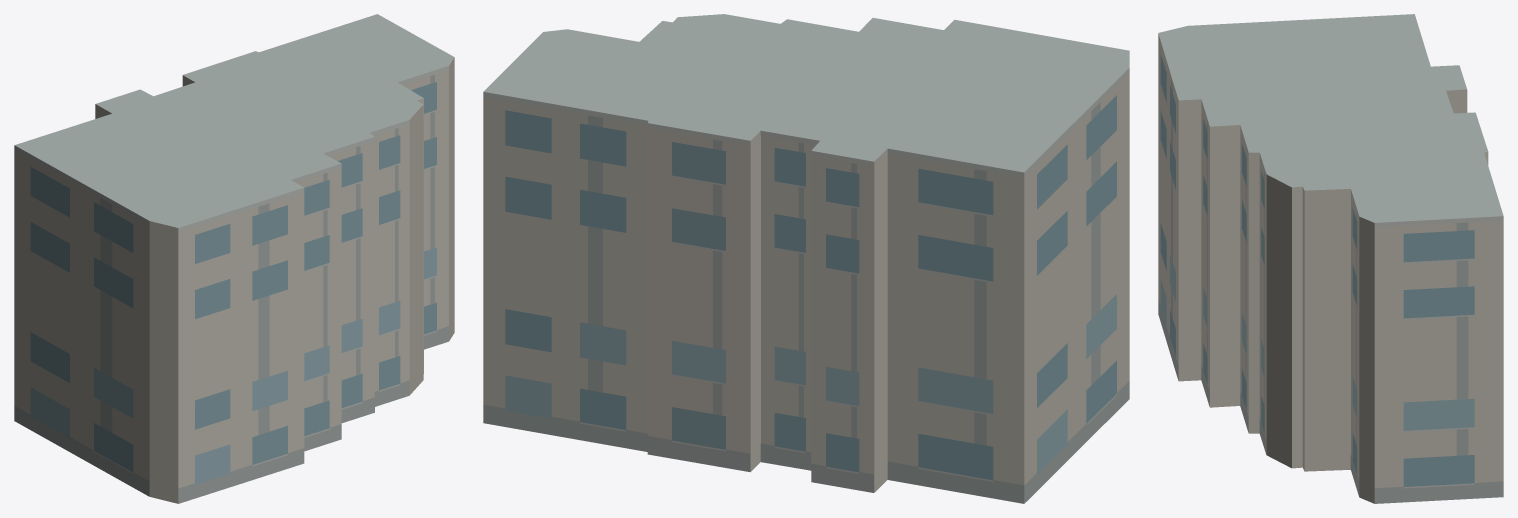
Rendered from survey-upis-32802714.glb.
3 views of the same model, side by side, from view 1: azimuth 30°, elevation 25°; view 2: azimuth 150°, elevation 25°; view 3: azimuth 270°, elevation 25° (orthographic). The views are drawn at different scales.
Parts seen in each view (by area): view 1: survey-upis-32802714.tmp; view 2: survey-upis-32802714.tmp; view 3: survey-upis-32802714.tmp.
Part boxes in pixels (box(x1,y1,x2,y2)): survey-upis-32802714.tmp: box(14, 14, 454, 503); survey-upis-32802714.tmp: box(483, 14, 1129, 503); survey-upis-32802714.tmp: box(1158, 14, 1503, 503).
Bounding box in the file's own units: 24.33 × 15.25 × 17.
